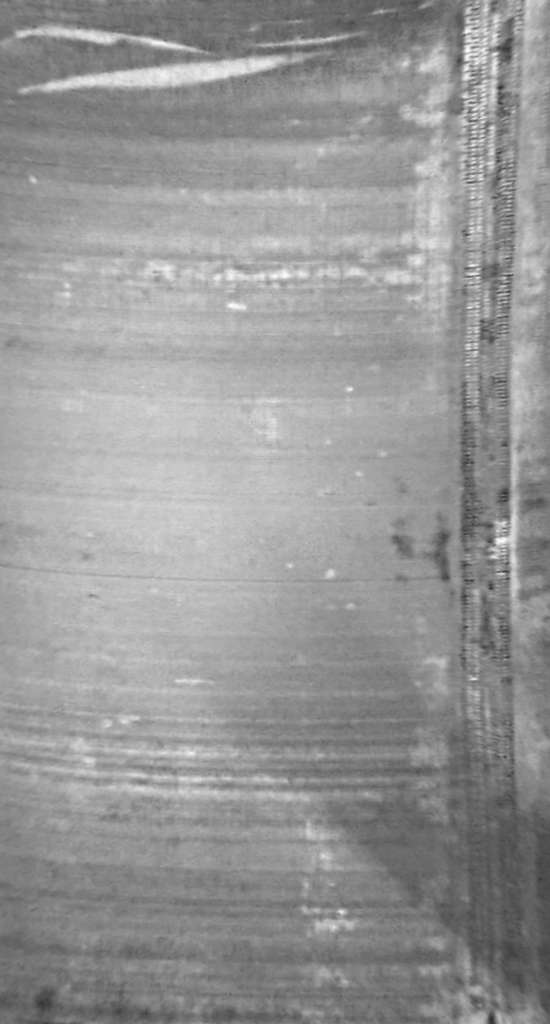splice: (439, 4, 530, 1024)
